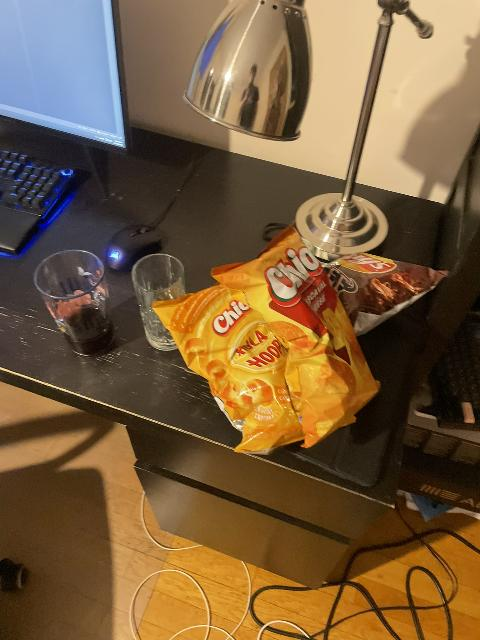Chio Cascaval 125g: (212, 221, 380, 445)
Chio Hula Hoops Cheese 70g: (155, 284, 354, 450)
Lays Beef Grilled Ribs 125g: (323, 252, 444, 333)
